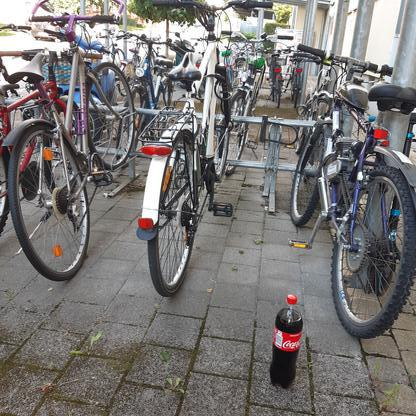coca-cola: (268, 293, 305, 389)
